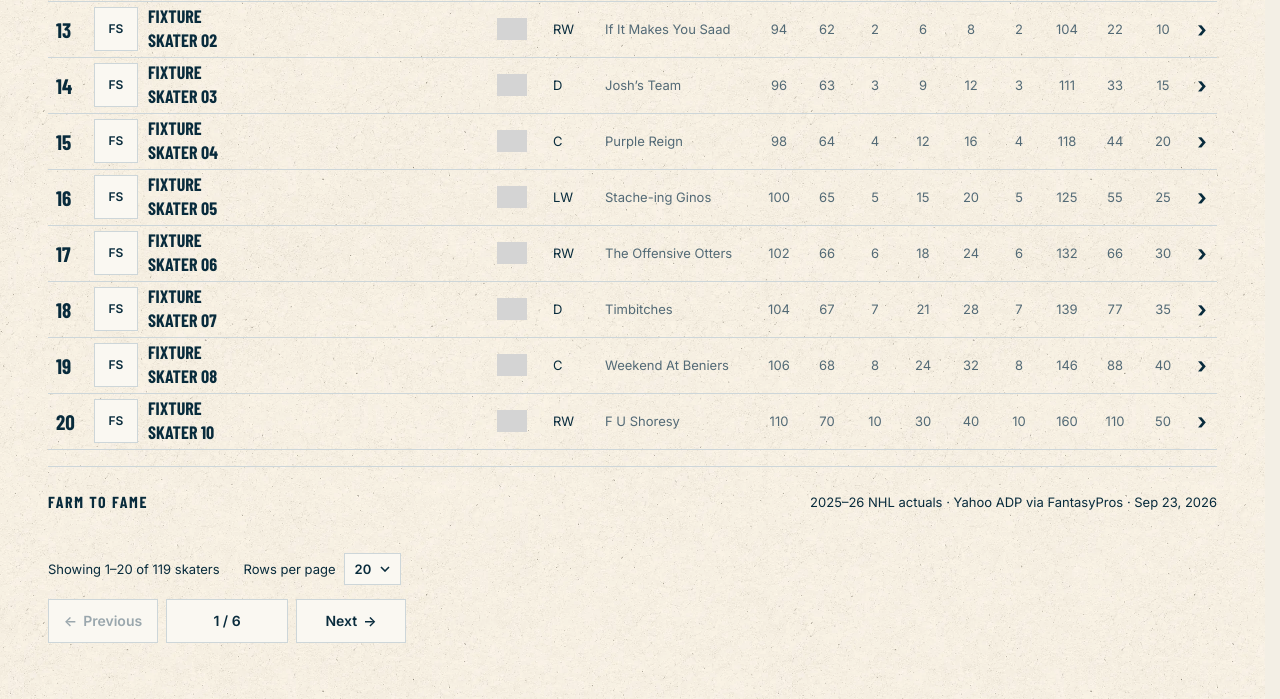
Scenario: Available Players page › lets the reader choose how many players to show per page
(page scrolled)
Click the button "Next →": (351, 621) [296,599,406,643]
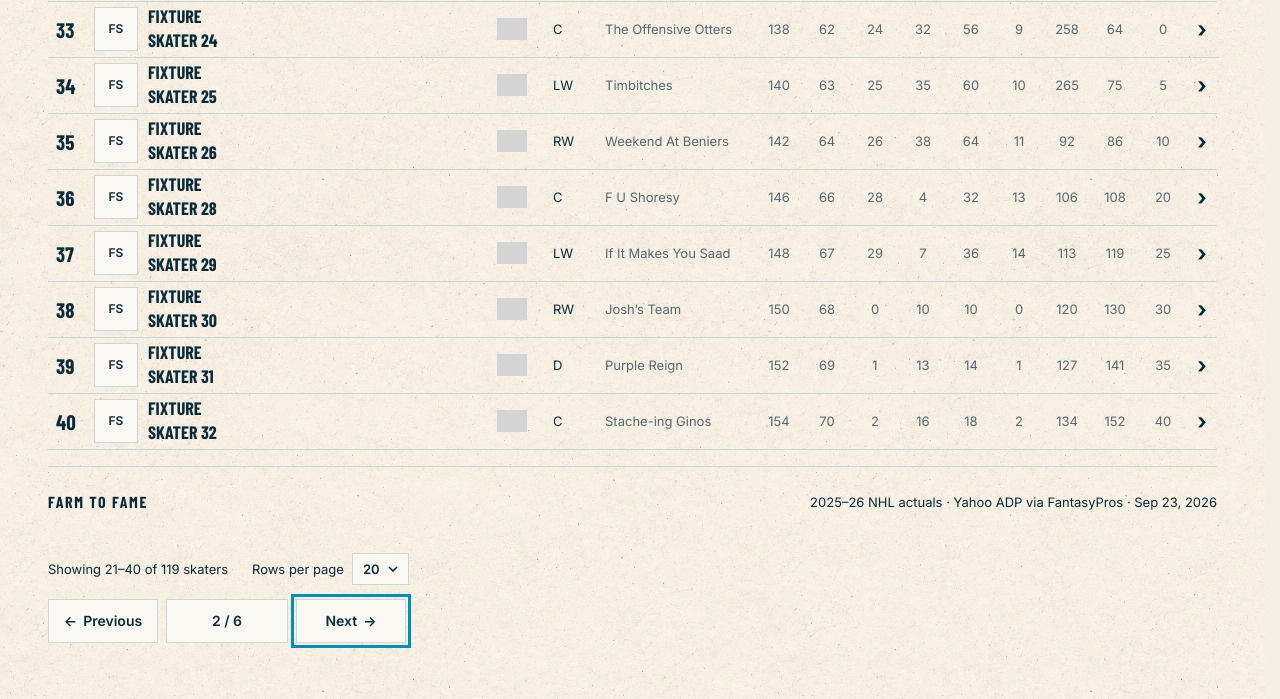
Select "50" in the dropdown labelled "Rows per page": (380, 569) [352,553,409,585]
(page scrolled)
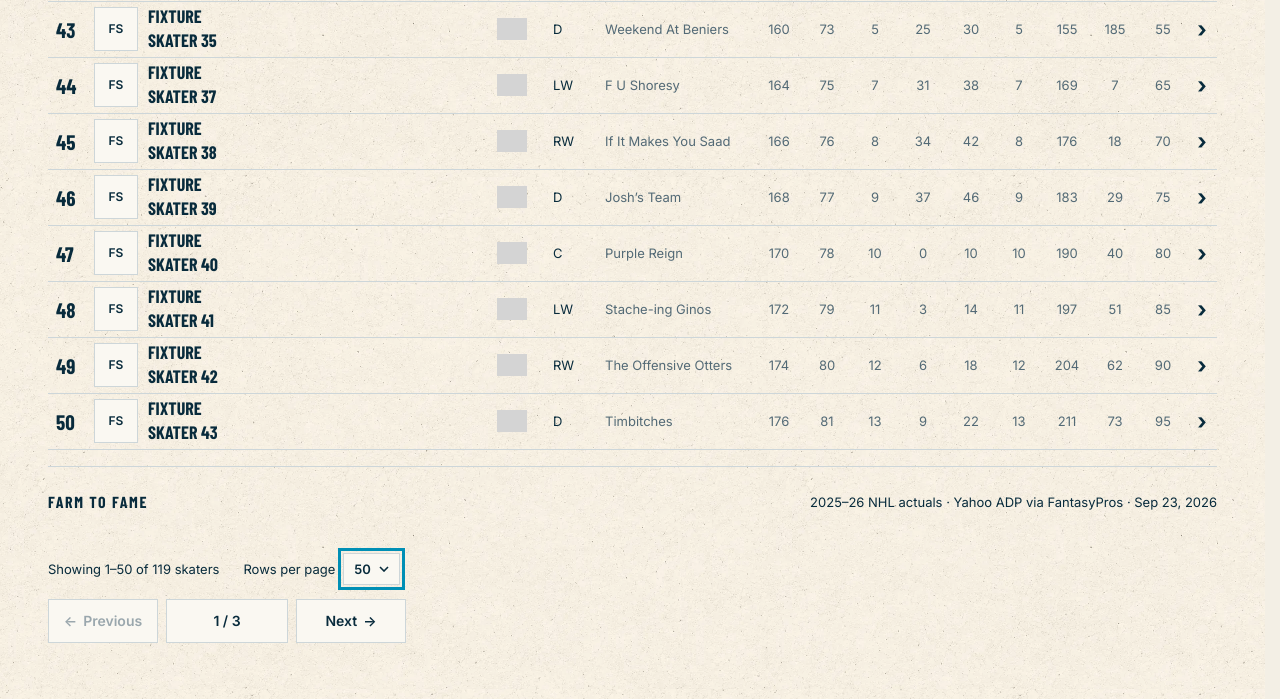
Check: the text "Showing 1–50 of 119 skaters" is shown, box [48,560,219,578]
Check: the text named "Page 1 of 3" is shown, box [166,599,288,643]
Select "10" in the dropdown labelled "Rows per page": (372, 569) [343,553,400,585]
(page scrolled)
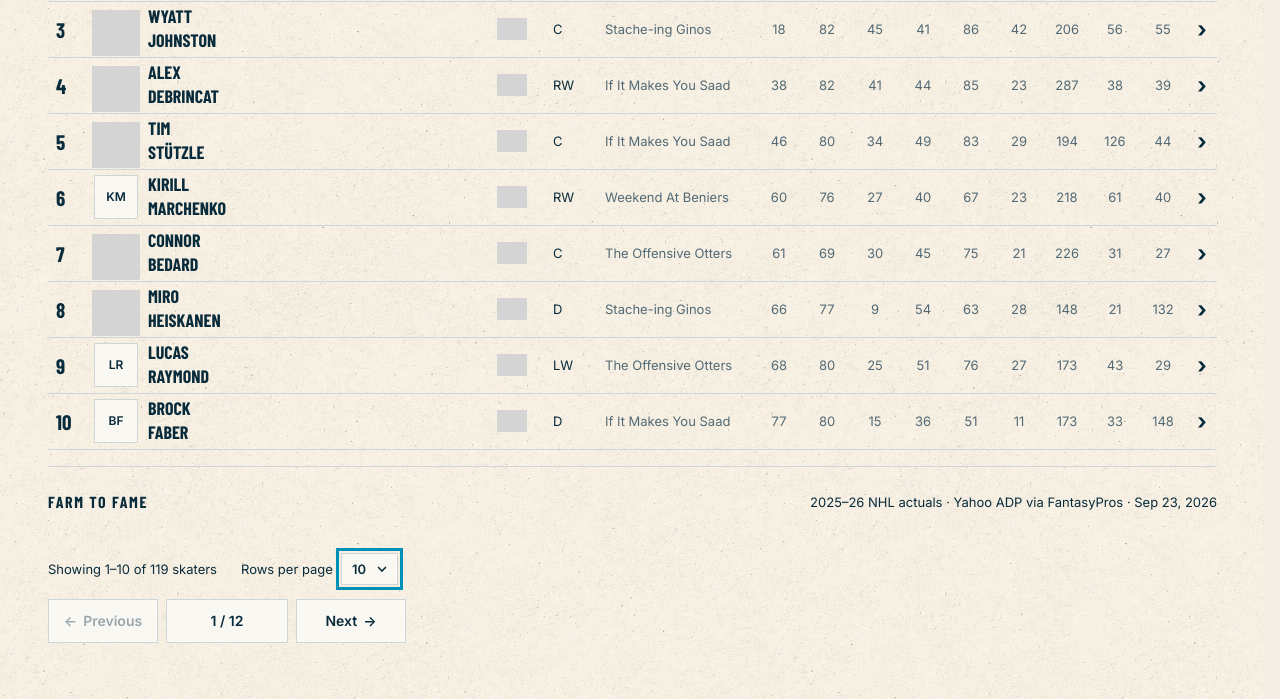
Check: the text named "Page 1 of 12" is shown, box [166,599,288,643]
